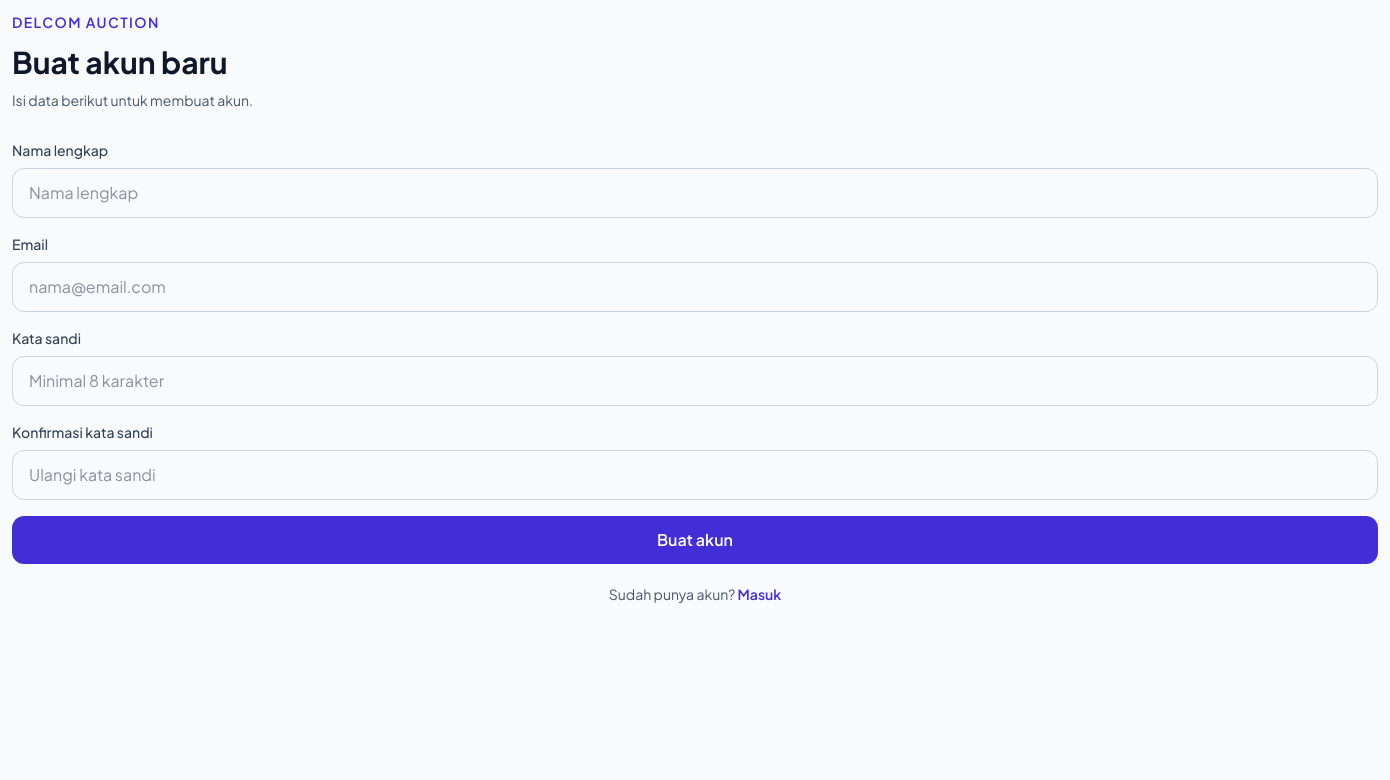
Test: RegisterPage › validasi form {"pw":"pendek","confirm":"pendek"}
Type "Budi" into the field with id "register-name".
click(695, 193); type("Budi")  # box top-left (12, 168), bottom-right (1378, 218)
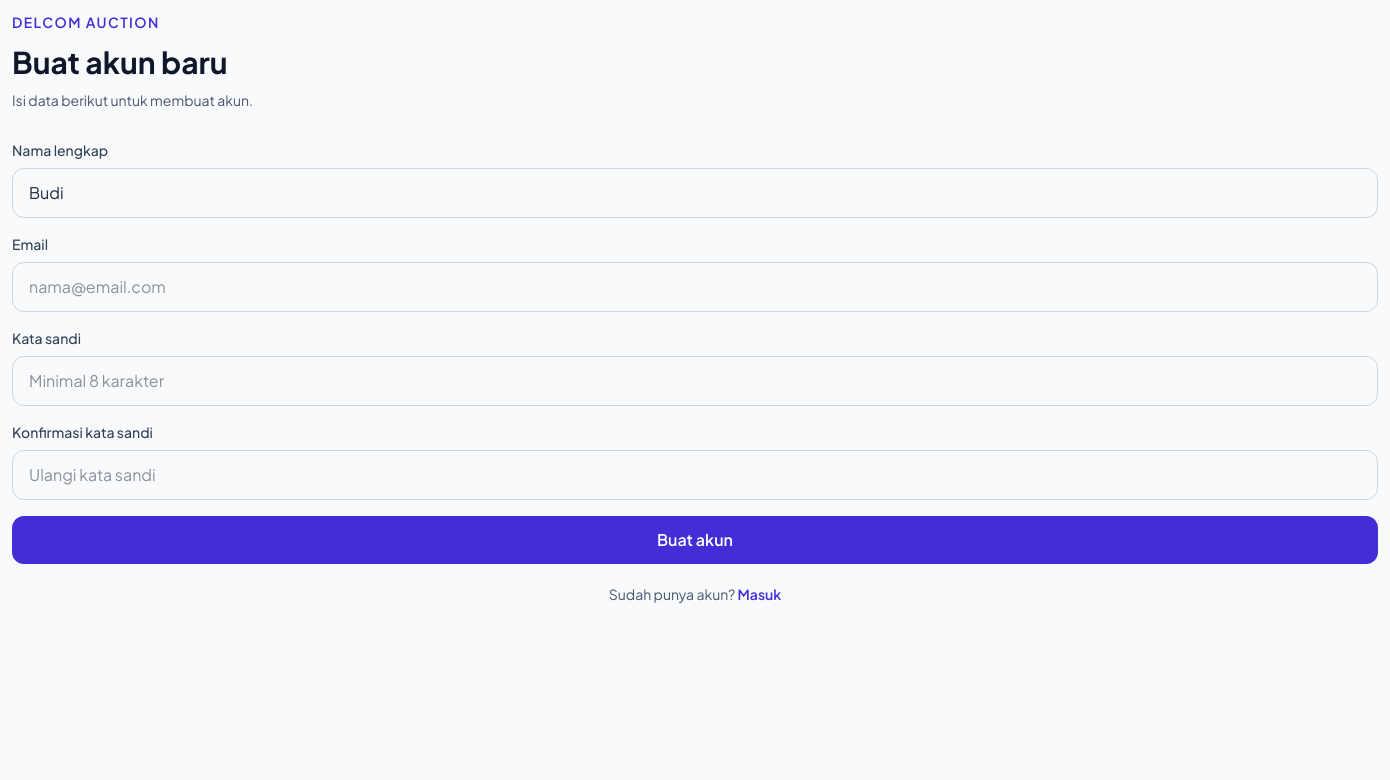
Type "a@b.com" into the field with id "register-email".
click(695, 287); type("a@b.com")  # box top-left (12, 262), bottom-right (1378, 312)
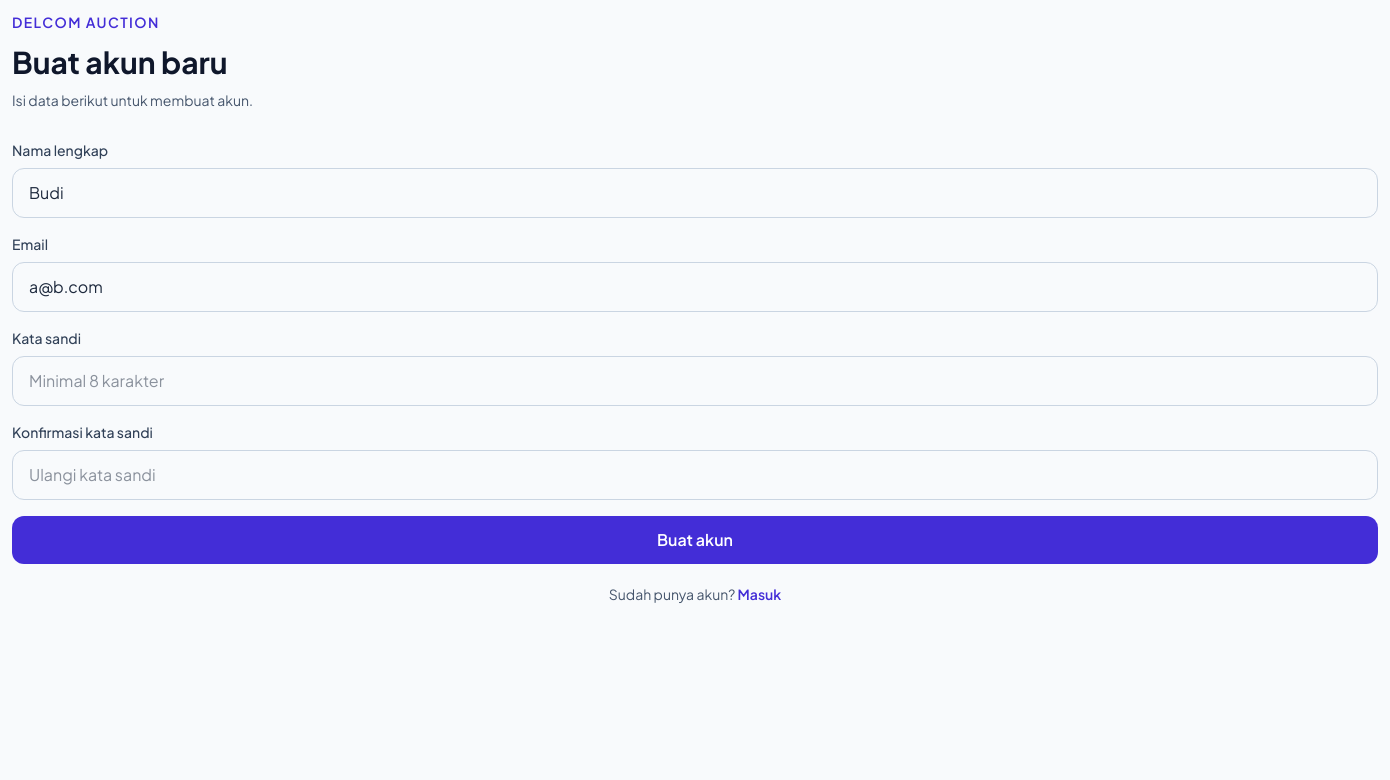
Type "pendek" into the password field with id "register-password".
click(695, 381); type("pendek")  # box top-left (12, 356), bottom-right (1378, 406)
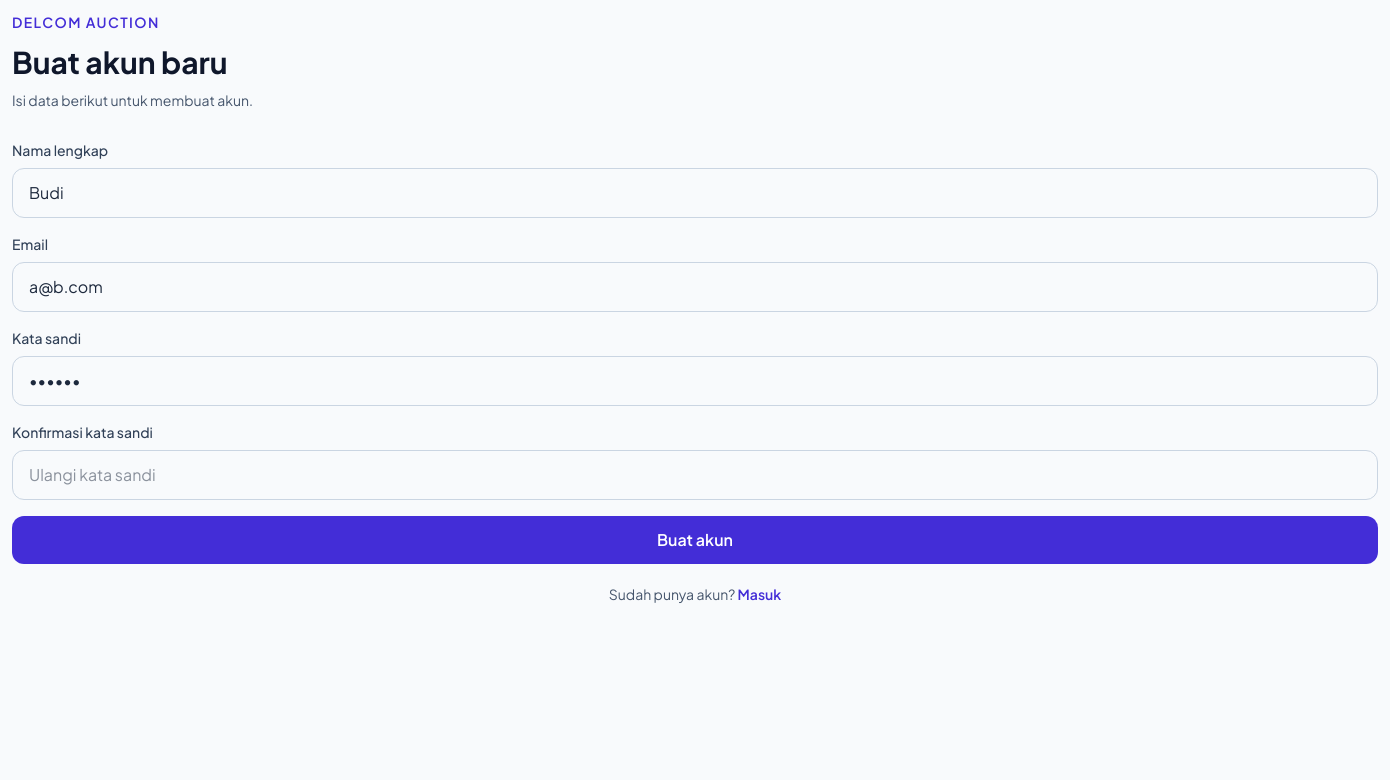
Type "pendek" into the password field with id "register-confirm-password".
click(695, 475); type("pendek")  # box top-left (12, 450), bottom-right (1378, 500)
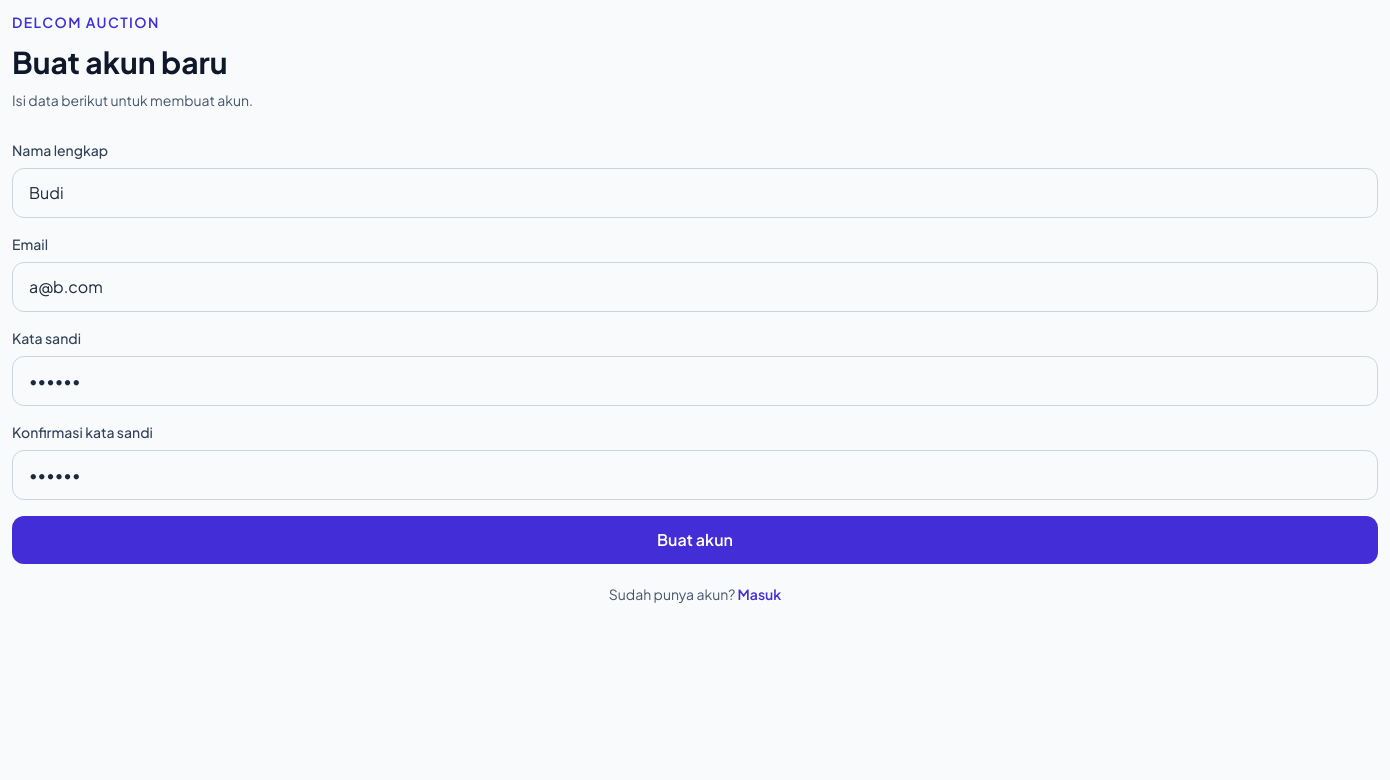
Submit the form, box top-left (12, 140), bottom-right (1378, 564)
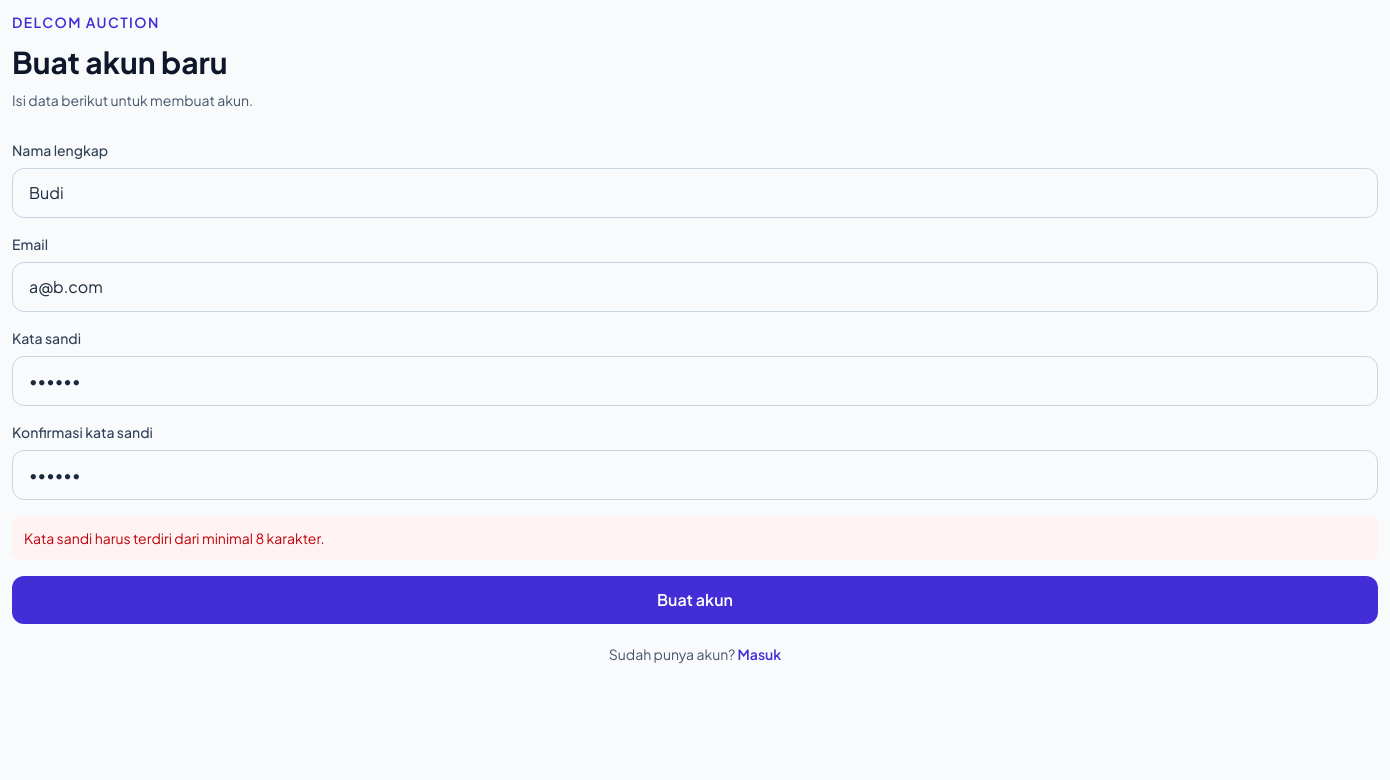
expect the message "Kata sandi harus terdiri dari minimal 8 karakter." is shown: met, box top-left (12, 516), bottom-right (1378, 560)
